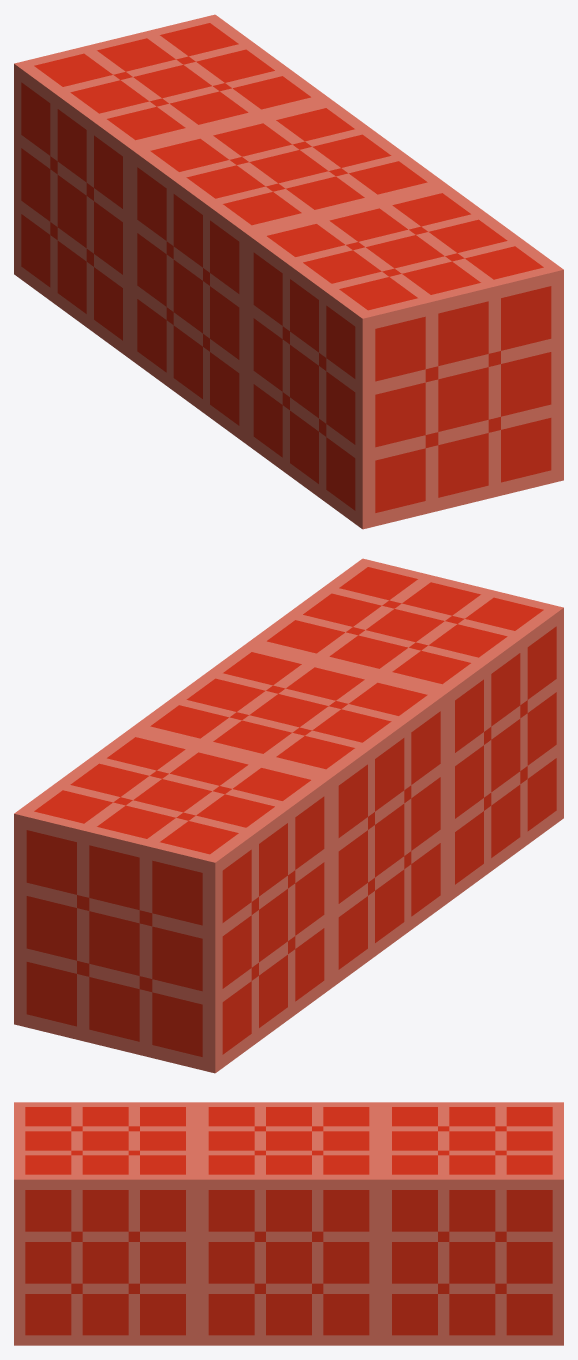
Rendered from CyberTiles - Red 3x1.fbx.
The picture shows the model from 3 angles, top to bottom: view 1: azimuth 30°, elevation 25°; view 2: azimuth 150°, elevation 25°; view 3: azimuth 270°, elevation 25°; orthographic projection. The views are drawn at different scales.
Visible parts, largest first — view 1: cyber_tiles - red 3x1; view 2: cyber_tiles - red 3x1; view 3: cyber_tiles - red 3x1.
Part boxes in pixels (left/top/right/bottom): cyber_tiles - red 3x1: left=14, top=14, right=563, bottom=529; cyber_tiles - red 3x1: left=14, top=558, right=563, bottom=1073; cyber_tiles - red 3x1: left=14, top=1102, right=563, bottom=1345.
Size of the model in its own units: 1.6 by 1.6 by 4.8.
Materials: 1 (1 with a texture image).
